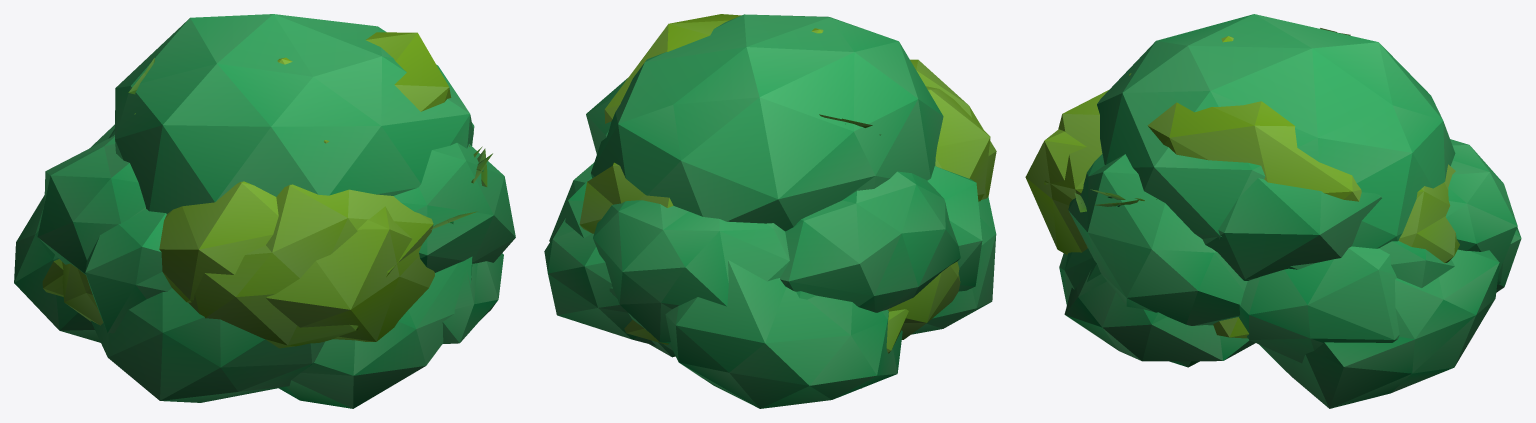
The model's file is vegetasi_bush_emerald_463360.glb.
3 renders of one model, left to right at view 1: azimuth 30°, elevation 25°; view 2: azimuth 150°, elevation 25°; view 3: azimuth 270°, elevation 25°, orthographic. The views are drawn at different scales.
Parts seen in each view (by area): view 1: Semak_Belukar_Sungai; view 2: Semak_Belukar_Sungai; view 3: Semak_Belukar_Sungai.
Part boxes in pixels (box(x1,y1,x2,y2)): Semak_Belukar_Sungai: box(14, 14, 515, 408); Semak_Belukar_Sungai: box(544, 14, 996, 408); Semak_Belukar_Sungai: box(1025, 14, 1521, 408).
Bounding box in the file's own units: 2.5 × 1.92 × 2.77.
